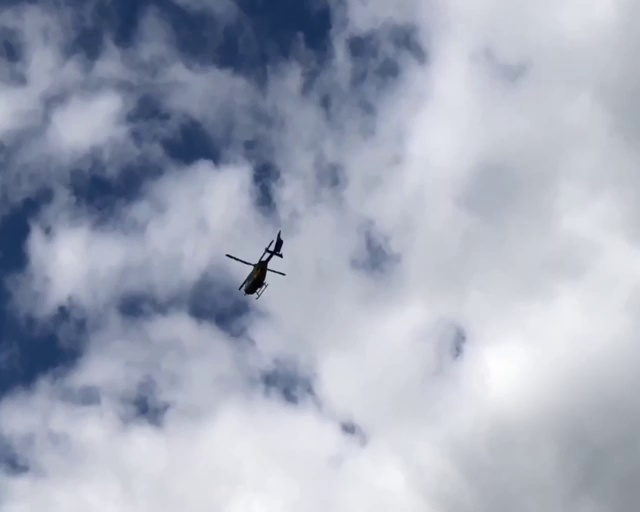HELICOPTER: (225, 227, 287, 299)
